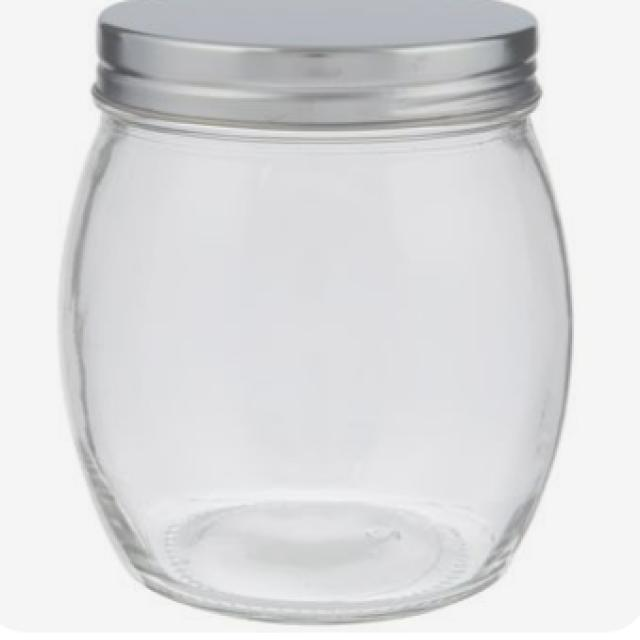ToplesKaca: (55, 0, 576, 623)
